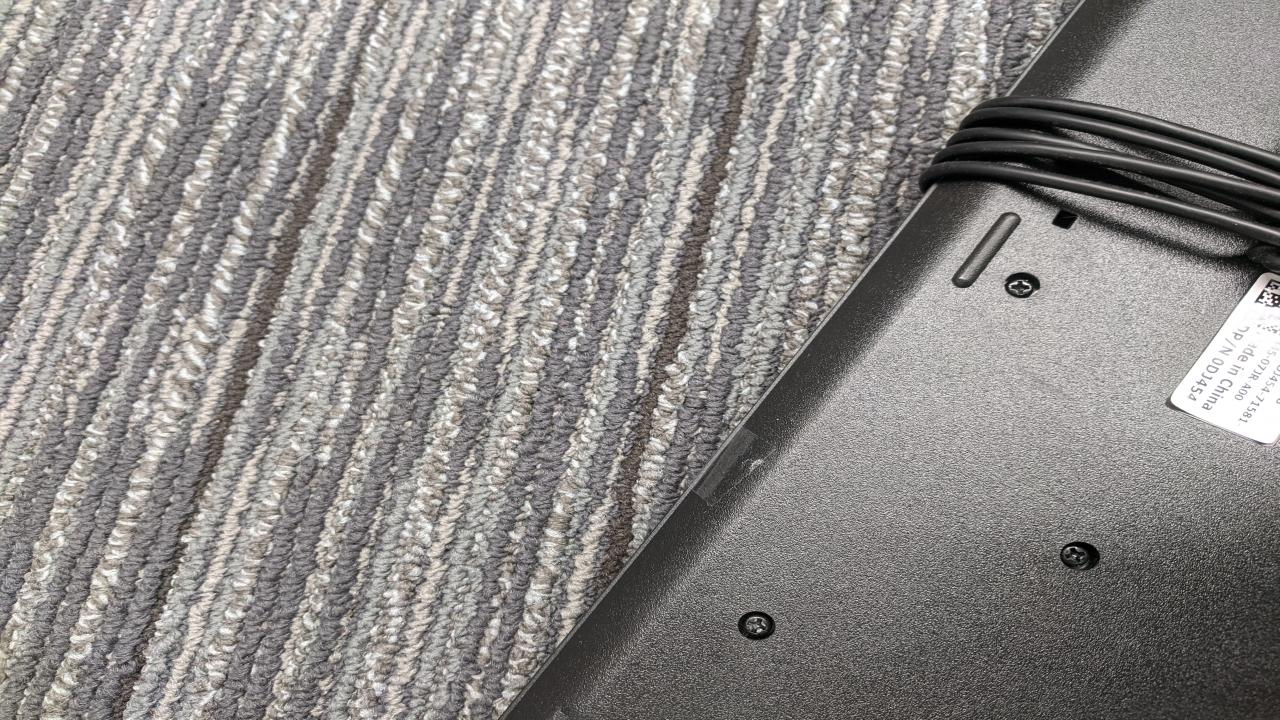CRS: (739, 612, 776, 639), (1058, 540, 1096, 566), (1004, 273, 1039, 300)
